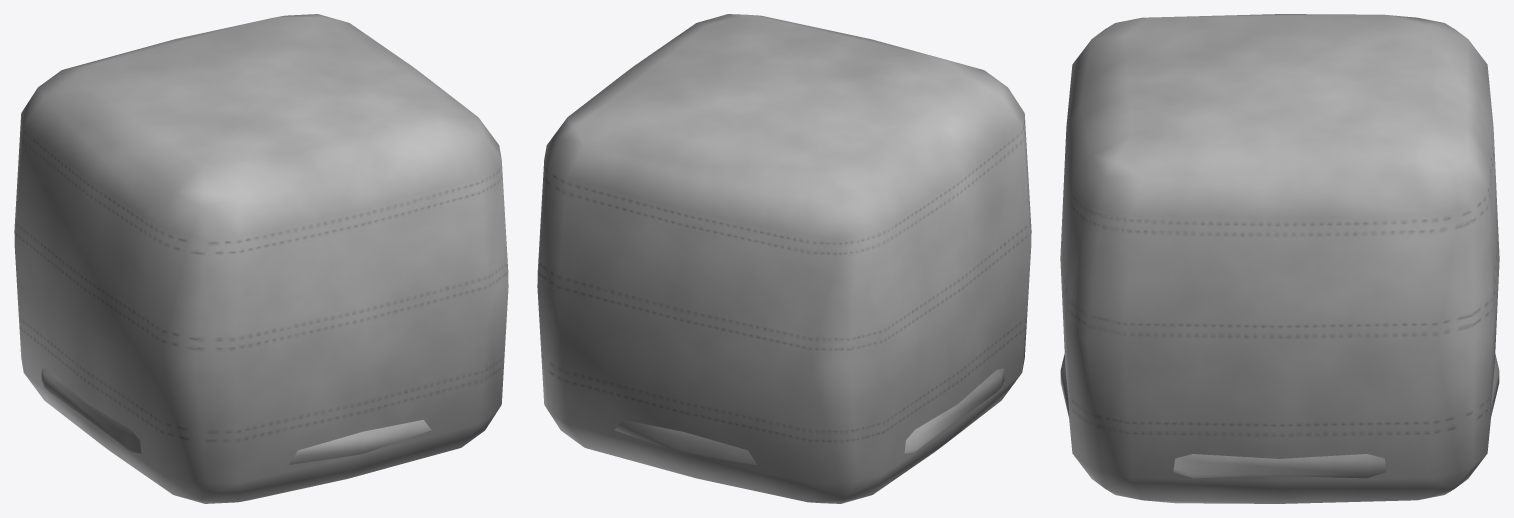
Rendered from LeftLowerArm_C1.fbx.
The picture shows the model from 3 angles, left to right: view 1: azimuth 30°, elevation 25°; view 2: azimuth 150°, elevation 25°; view 3: azimuth 270°, elevation 25°; orthographic projection. The views are drawn at different scales.
Parts seen in each view (by area): view 1: Civ_BuzoCapucha_LeftLowerArm_C1; view 2: Civ_BuzoCapucha_LeftLowerArm_C1; view 3: Civ_BuzoCapucha_LeftLowerArm_C1.
Part boxes in pixels (box(x1,y1,x2,y2)): Civ_BuzoCapucha_LeftLowerArm_C1: box(14, 14, 508, 503); Civ_BuzoCapucha_LeftLowerArm_C1: box(537, 14, 1031, 503); Civ_BuzoCapucha_LeftLowerArm_C1: box(1060, 14, 1499, 503).
Size of the model in its own units: 1.29 by 1.19 by 1.29.
